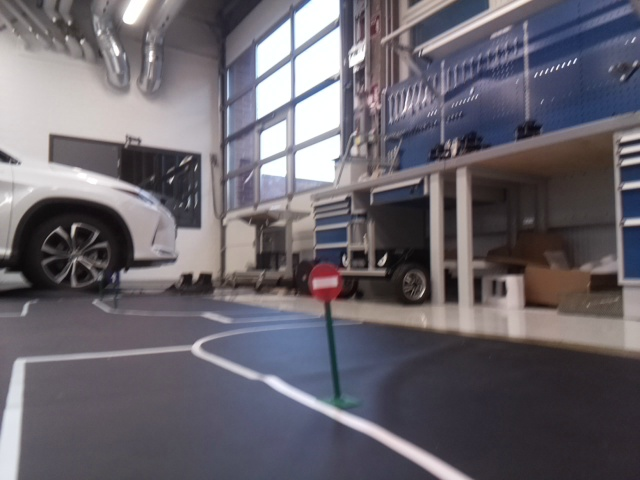NoEntry: (305, 264, 341, 300)
